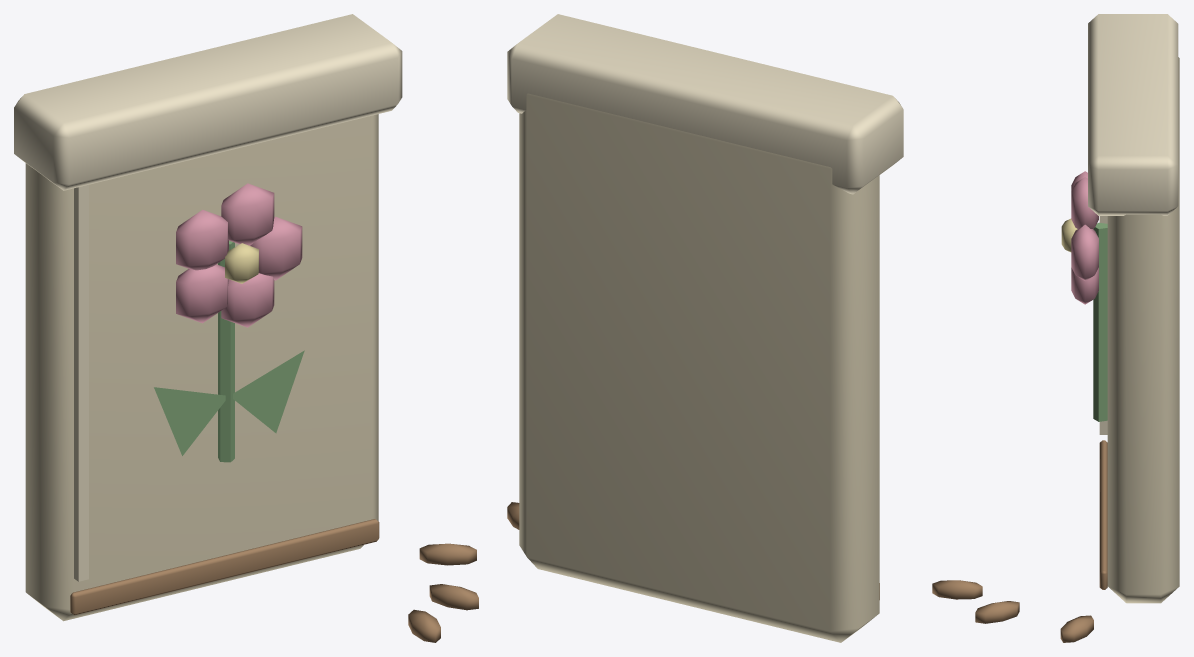
Rendered from seed_packet.glb.
The picture shows the model from 3 angles, left to right: view 1: azimuth 30°, elevation 25°; view 2: azimuth 150°, elevation 25°; view 3: azimuth 270°, elevation 25°; orthographic projection. The views are drawn at different scales.
Visible parts, largest first — view 1: Paper sachet, Folded top edge, Paper lower seam, Paper side seam, Rounded spring petal.002, Rounded spring petal.001, Painted leaf.001, Painted leaf, Rounded spring petal.003, Painted flower stalk, Rounded spring petal, Rounded spring petal.004 (+4 smaller); view 2: Paper sachet, Folded top edge; view 3: Paper sachet, Folded top edge, Painted flower stalk, Paper lower seam, Rounded spring petal, Rounded spring petal.001, Spilled seed.002, Spilled seed.001, Spilled seed, Rounded spring petal.004.
Boxes of the visible parts, box(x1,y1,x2,y2) form: Paper sachet: box(25, 114, 378, 621); Folded top edge: box(14, 14, 402, 190); Paper lower seam: box(70, 519, 379, 615); Paper side seam: box(74, 184, 88, 581); Rounded spring petal.002: box(176, 209, 228, 270); Rounded spring petal.001: box(221, 183, 274, 245); Painted leaf.001: box(233, 350, 304, 433); Painted leaf: box(154, 387, 225, 455); Rounded spring petal.003: box(176, 264, 228, 323); Painted flower stalk: box(218, 240, 234, 462); Rounded spring petal: box(250, 216, 302, 280); Rounded spring petal.004: box(221, 273, 274, 327); Paper sachet: box(519, 93, 879, 642); Folded top edge: box(507, 14, 903, 194); Paper sachet: box(1107, 57, 1179, 603); Folded top edge: box(1088, 14, 1178, 215); Painted flower stalk: box(1093, 222, 1107, 421); Paper lower seam: box(1099, 440, 1107, 589); Rounded spring petal: box(1071, 224, 1098, 280); Rounded spring petal.001: box(1071, 177, 1098, 228); Spilled seed.002: box(932, 580, 982, 599); Spilled seed.001: box(975, 601, 1019, 623); Spilled seed: box(1060, 615, 1093, 642); Rounded spring petal.004: box(1071, 267, 1098, 304).
Size of the model in its own units: 0.155 by 0.1925 by 0.0929.
